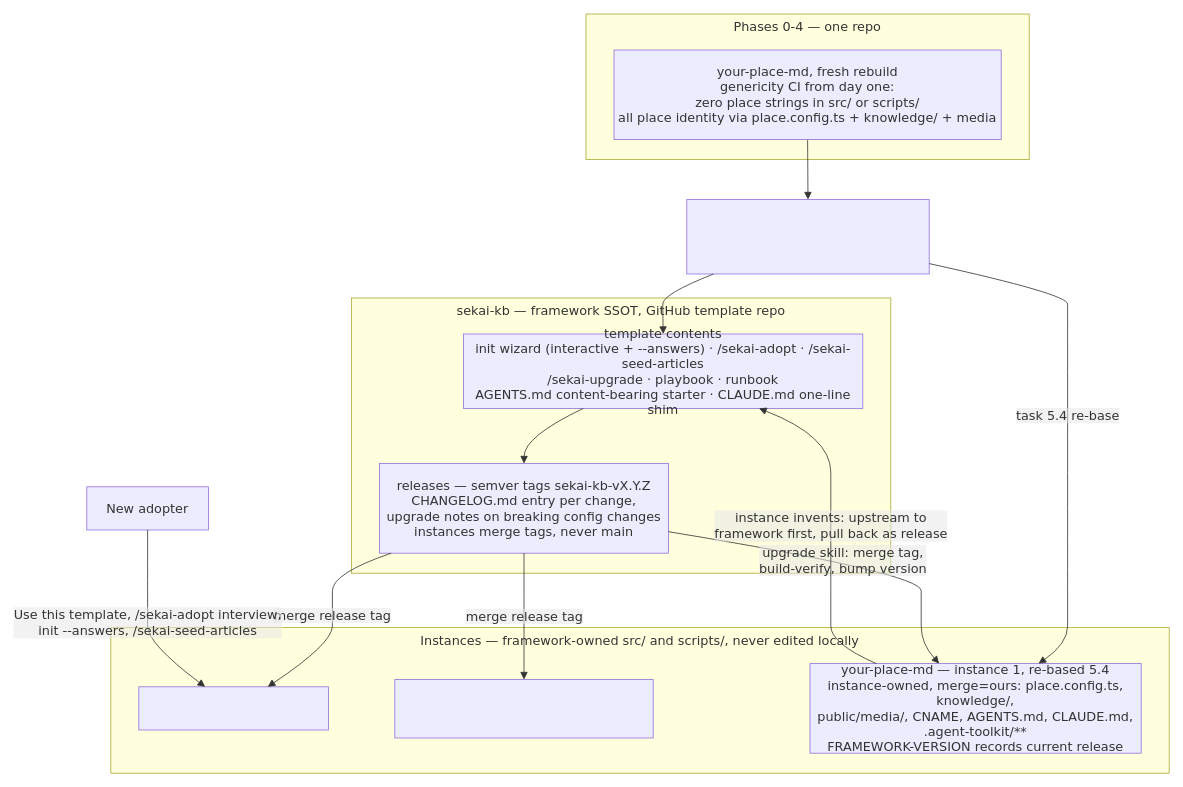
Image size: 1183x787. Some labels were removed from this diagram. The shapes that lost their labels are listed below. From the top down, each one's centre as x and y in pixels, then its label:
pixel 807 236: Phase 5.1 cut strip LB content, fresh git history, fictional demo place seeded
pixel 233 708: future adopter instances
pixel 523 708: dana-point — 5.2c end-to-end proof, under 1 hour via /sekai-adopt
